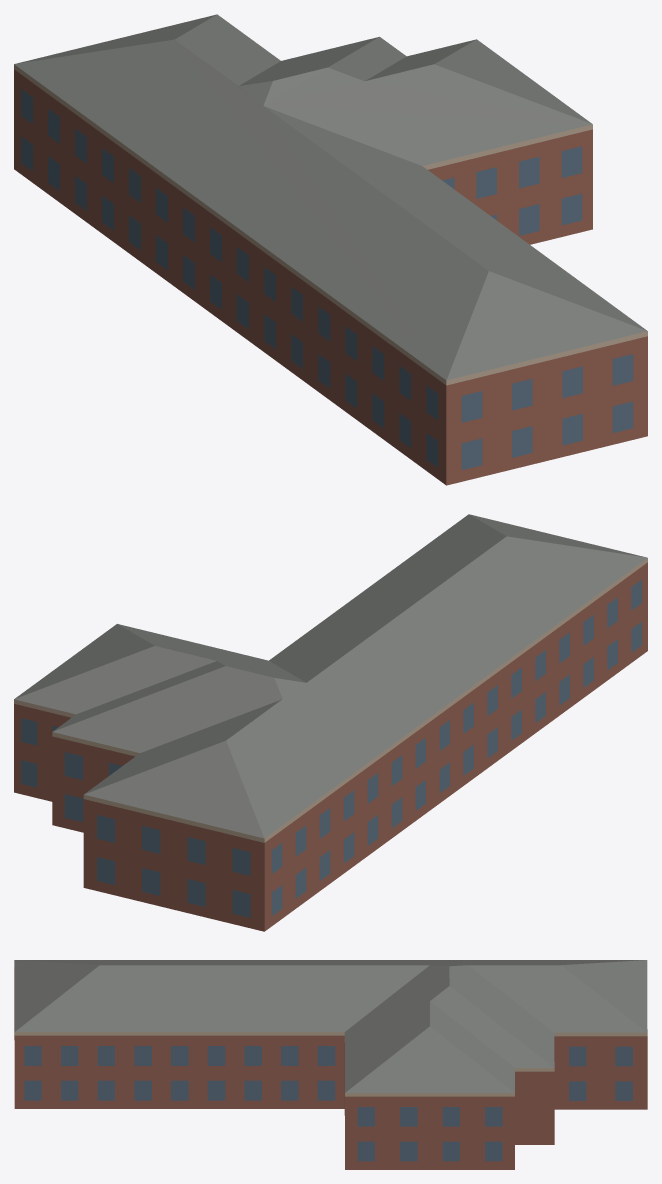
The model's file is dc-au-mccabe-hall.glb.
3 views of the same model, one above another, from view 1: azimuth 30°, elevation 25°; view 2: azimuth 150°, elevation 25°; view 3: azimuth 270°, elevation 25° (orthographic). The views are drawn at different scales.
Parts seen in each view (by area): view 1: McCabe Hall; view 2: McCabe Hall; view 3: McCabe Hall.
Boxes of the visible parts, bbox=[...] form: McCabe Hall: bbox=[14, 14, 647, 485]; McCabe Hall: bbox=[14, 514, 647, 931]; McCabe Hall: bbox=[14, 960, 647, 1169].
Size of the model in its own units: 24.94 by 10.01 by 50.06.
